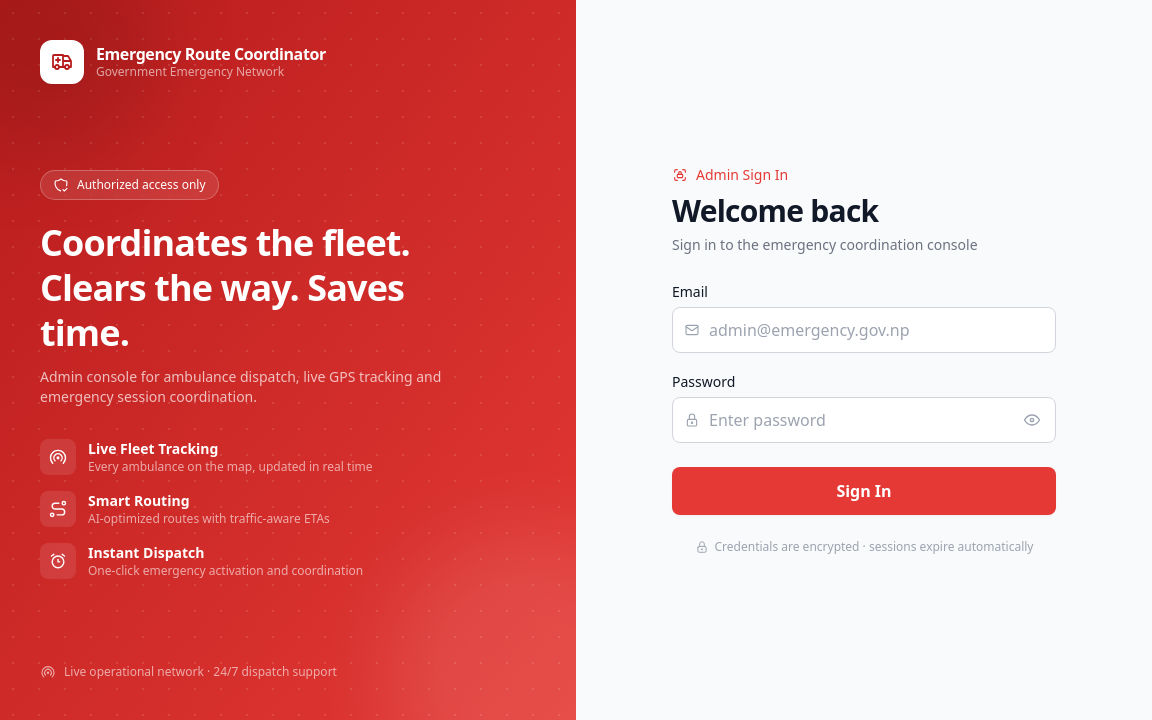
LoginPage Component › handles FastAPI 422 validation array error gracefully without React child crash
In the field with placeholder "admin@emergency.gov.np": (864, 330) [672, 307, 1056, 353], type "bad_email"
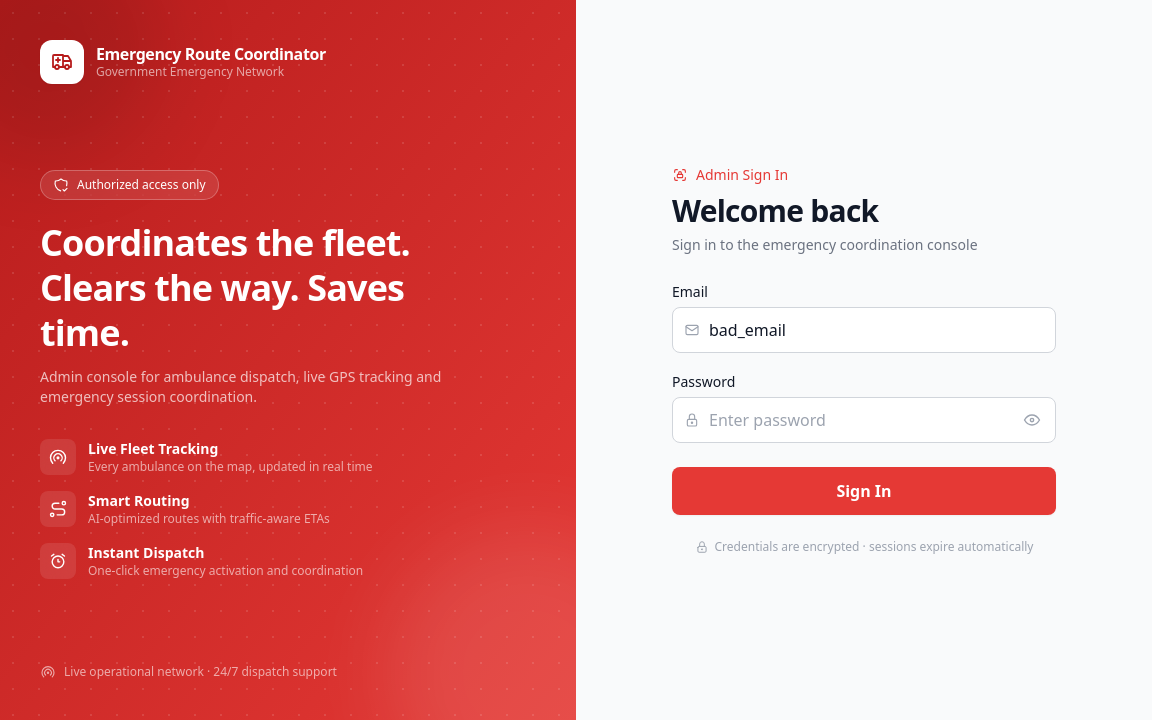
In the password field with placeholder "Enter password": (864, 420) [672, 397, 1056, 443], type "password123"
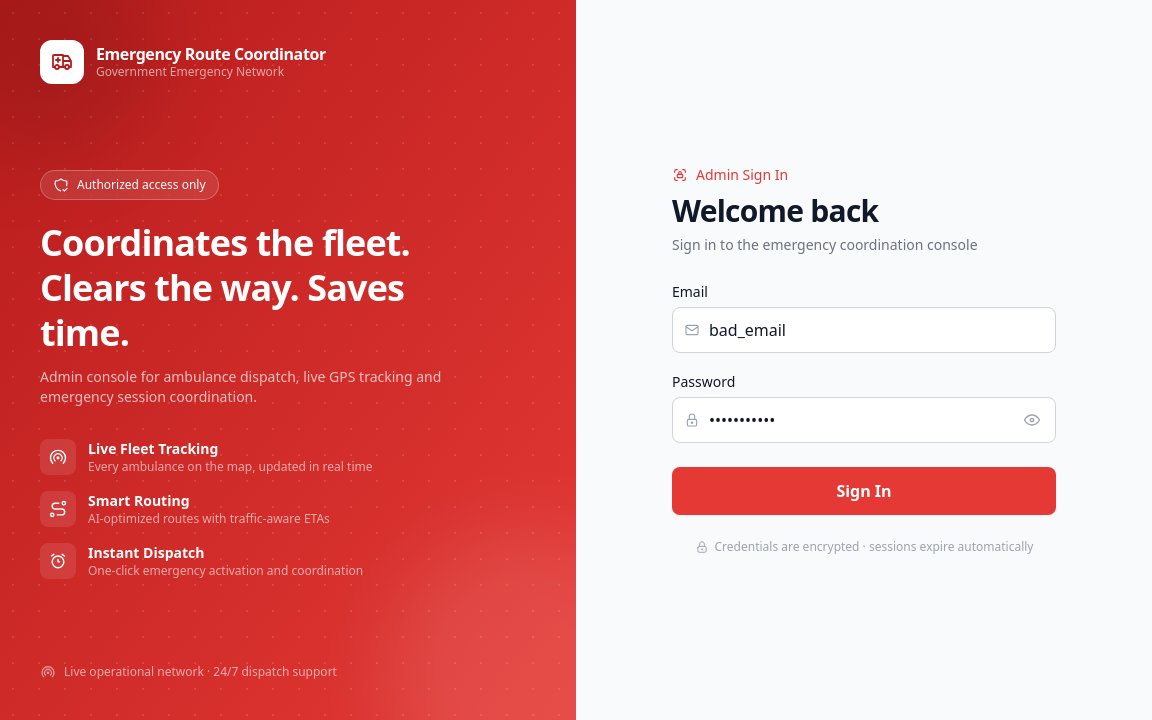
Submit the form, box [672, 165, 1056, 555]
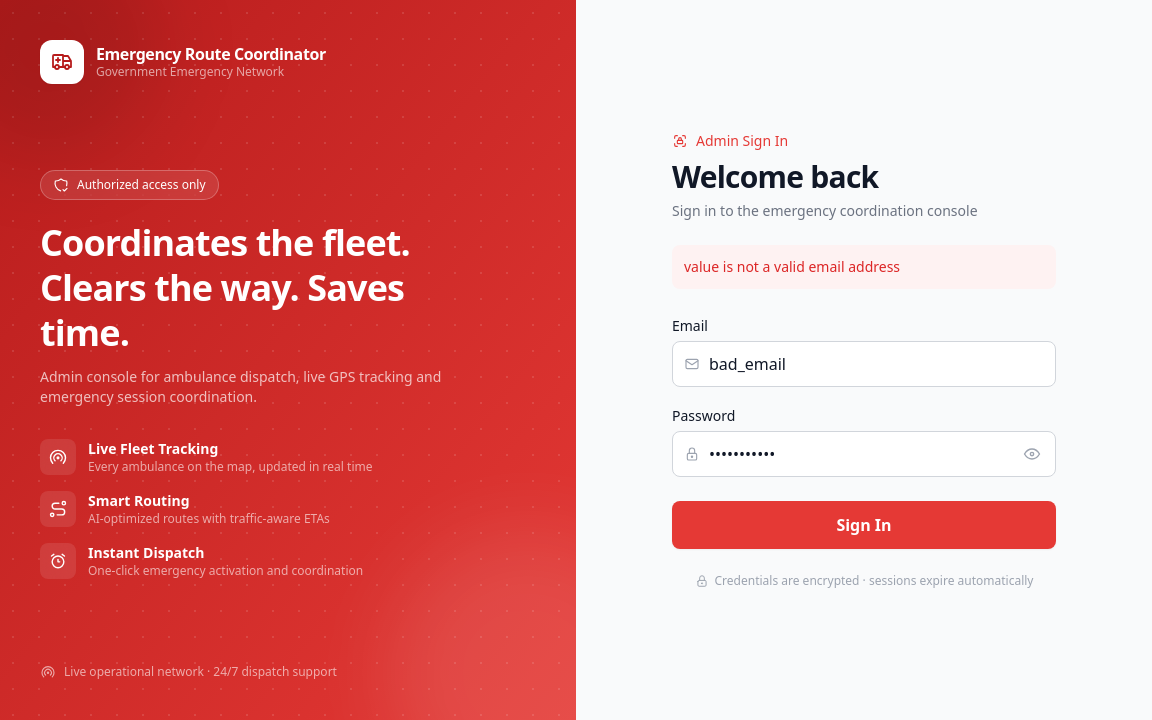
Check: the text "value is not a valid email address" is shown, box [672, 245, 1056, 289]
